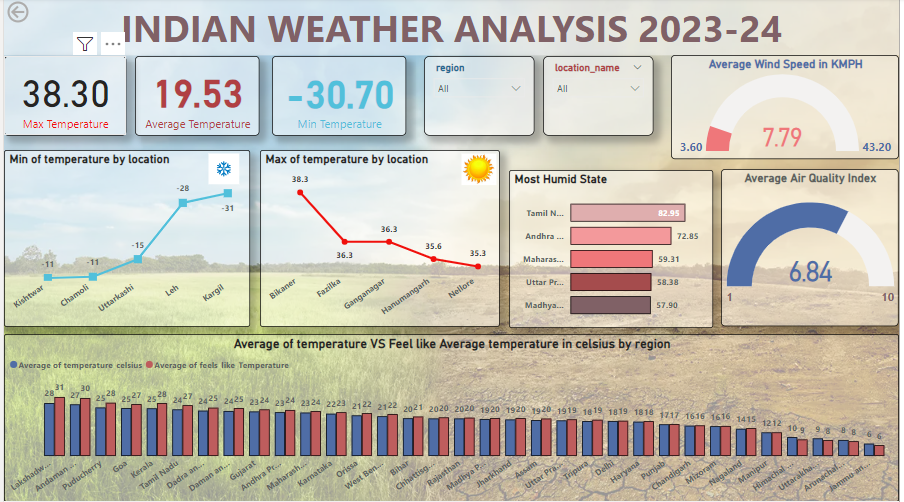

What the dashboard file says about the page in this screenshot:
{"tool":"powerbi","page":{"name":"Page 1","canvas":[1280,720],"ordinal":0},"visuals":[{"type":"clusteredColumnChart","title":"Average of temperature  VS Feel like Average temperature in celsius by region","fields":{"Category":["IndianWeatherRepository.region"],"Y":["Avg(IndianWeatherRepository.temperature_celsius)","Avg(IndianWeatherRepository.feels_like_celsius)"]},"box":[0,480.5,1279.8,239.5],"z":0},{"type":"actionButton","box":[0,0,100,40],"z":1000},{"type":"textbox","box":[0,0,1280,82.3],"z":2000},{"type":"card","fields":{"Values":["Min(IndianWeatherRepository.temperature_celsius)"]},"box":[383.3,82.9,191.6,114.4],"z":3000},{"type":"card","fields":{"Values":["Avg(IndianWeatherRepository.temperature_celsius)"]},"box":[188,82.5,178.1,113.8],"z":4000},{"type":"card","fields":{"Values":["Max(IndianWeatherRepository.temperature_celsius)"]},"box":[0,82.5,174.8,113.8],"z":5000},{"type":"barChart","title":"Most Humid State","fields":{"Category":["IndianWeatherRepository.region"],"Y":["Avg(IndianWeatherRepository.humidity)"]},"box":[722.1,245.3,291.9,226.3],"z":6000},{"type":"lineChart","title":"Max of temperature by location","fields":{"Category":["IndianWeatherRepository.location_name"],"Y":["Max(IndianWeatherRepository.temperature_celsius)"]},"box":[366.1,217.4,343.2,253.1],"z":7000},{"type":"lineChart","title":"Min of temperature by location","fields":{"Category":["IndianWeatherRepository.location_name"],"Y":["Min(IndianWeatherRepository.temperature_celsius)"]},"box":[0,217.4,351.8,253.1],"z":8000},{"type":"slicer","title":"state","fields":{"Values":["IndianWeatherRepository.region"]},"box":[600.4,82.5,158.4,113.8],"z":9000},{"type":"slicer","title":"state","fields":{"Values":["IndianWeatherRepository.location_name"]},"box":[770.3,82.5,158.4,113.8],"z":10000},{"type":"gauge","title":"Average Wind Speed in KMPH","fields":{"Y":["Avg(IndianWeatherRepository.wind_kph)"],"MinValue":["Min(IndianWeatherRepository.wind_kph)"],"MaxValue":["Max(IndianWeatherRepository.wind_kph)"]},"box":[953.9,82.2,326,148.8],"z":11000},{"type":"gauge","title":"Average Air Quality Index","fields":{"Y":["Avg(IndianWeatherRepository.air_quality_gb-defra-index)"],"MinValue":["Min(IndianWeatherRepository.air_quality_gb-defra-index)"],"MaxValue":["Max(IndianWeatherRepository.air_quality_gb-defra-index)1"]},"box":[1026.1,245.2,253.7,225.4],"z":12000},{"type":"image","box":[649.3,214.5,60.1,60.1],"z":13000},{"type":"image","box":[277.5,217.4,74.4,54.3],"z":14000}]}

Visuals, with their boxes in screenshot pixels (x1, y1, x2, y2), scaled from the page's 1280x720 canvas onto the 904x502 screenshot:
"Average of temperature  VS Feel like Average temperature in celsius by region" clusteredColumnChart: 0 335 903 501
actionButton: 0 0 71 28
textbox: 0 0 903 57
card - Min(IndianWeatherRepository.temperature_celsius): 271 58 406 138
card - Avg(IndianWeatherRepository.temperature_celsius): 133 58 259 137
card - Max(IndianWeatherRepository.temperature_celsius): 0 58 123 137
"Most Humid State" barChart: 510 171 716 329
"Max of temperature by location" lineChart: 259 152 501 328
"Min of temperature by location" lineChart: 0 152 248 328
"state" slicer: 424 58 536 137
"state" slicer: 544 58 656 137
"Average Wind Speed in KMPH" gauge: 674 57 903 161
"Average Air Quality Index" gauge: 725 171 903 328
image: 459 150 501 191
image: 196 152 249 189
